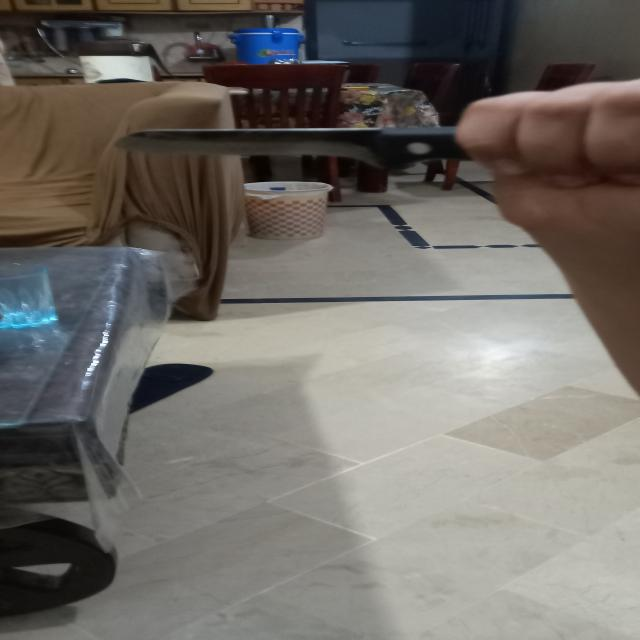Knife: (91, 121, 640, 186)
